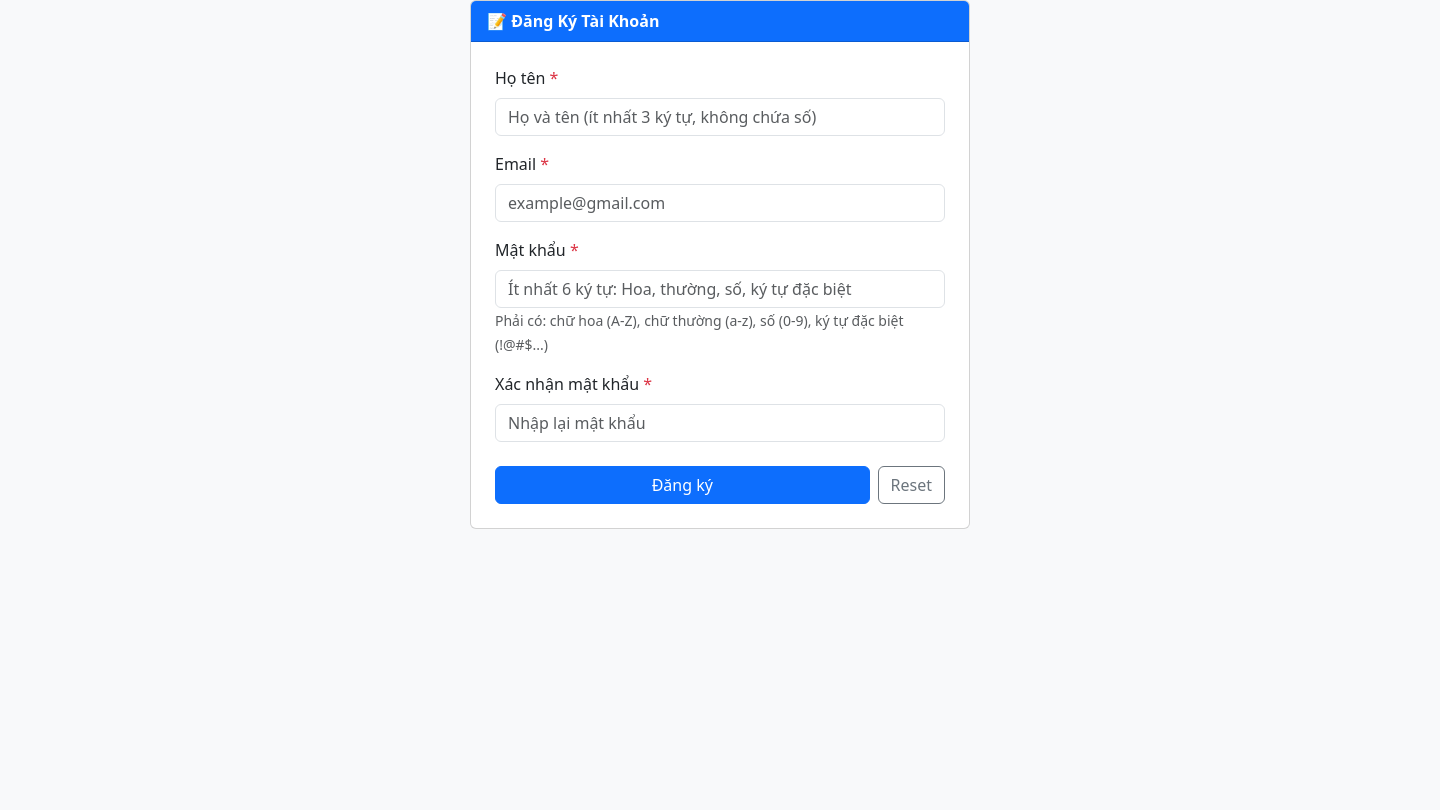
Test case: Bài 5 – Form Validation › ✅ Task 3 – SUBMIT thành công › hiển thị form-success sau khi điền đúng
The image size is (1440, 810).
Type "BichTra" into the field with test id "input-name".
click(720, 117); type("BichTra")  # box x1=495 y1=98 x2=945 y2=136
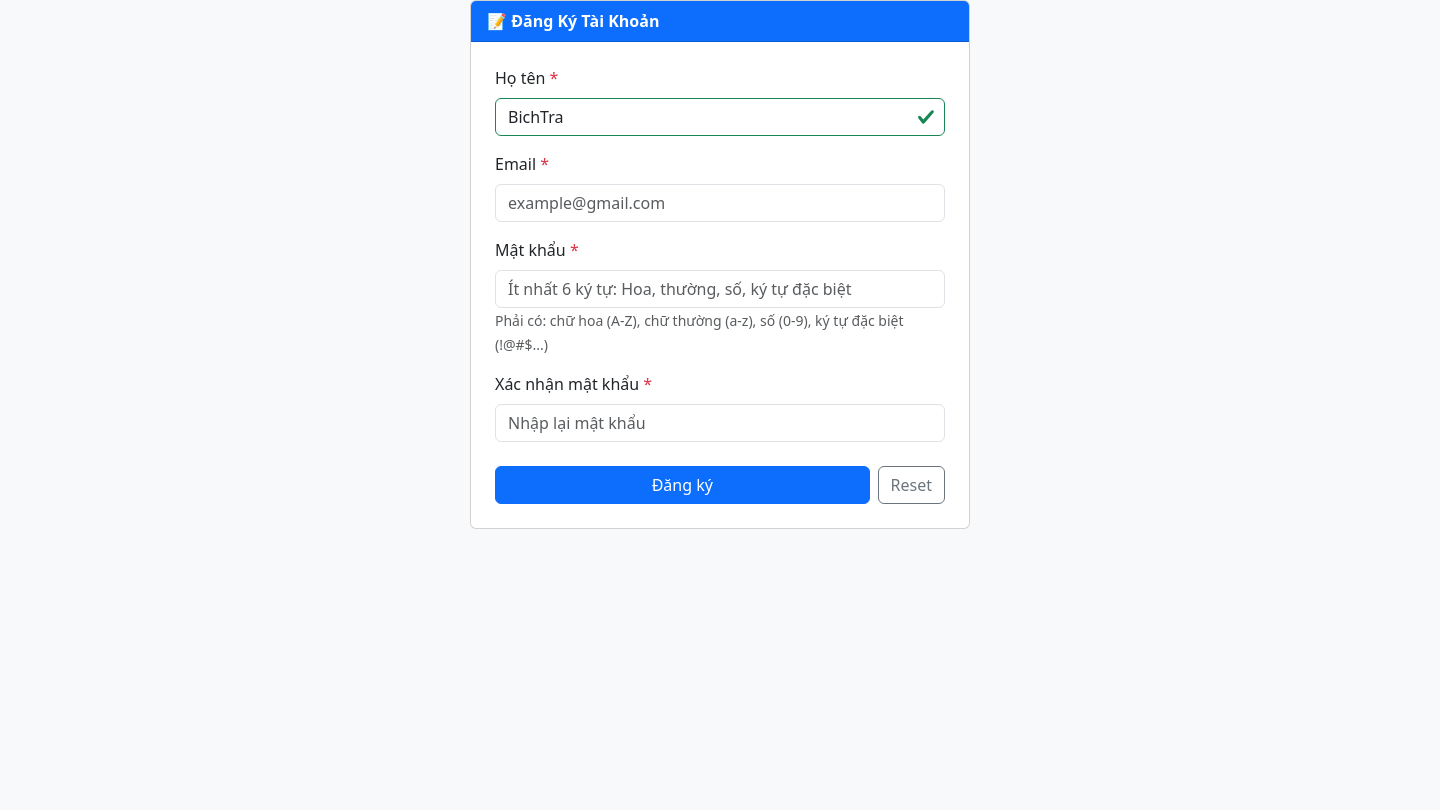
Type "bich@example.com" into the field with test id "input-email".
click(720, 203); type("bich@example.com")  # box x1=495 y1=184 x2=945 y2=222
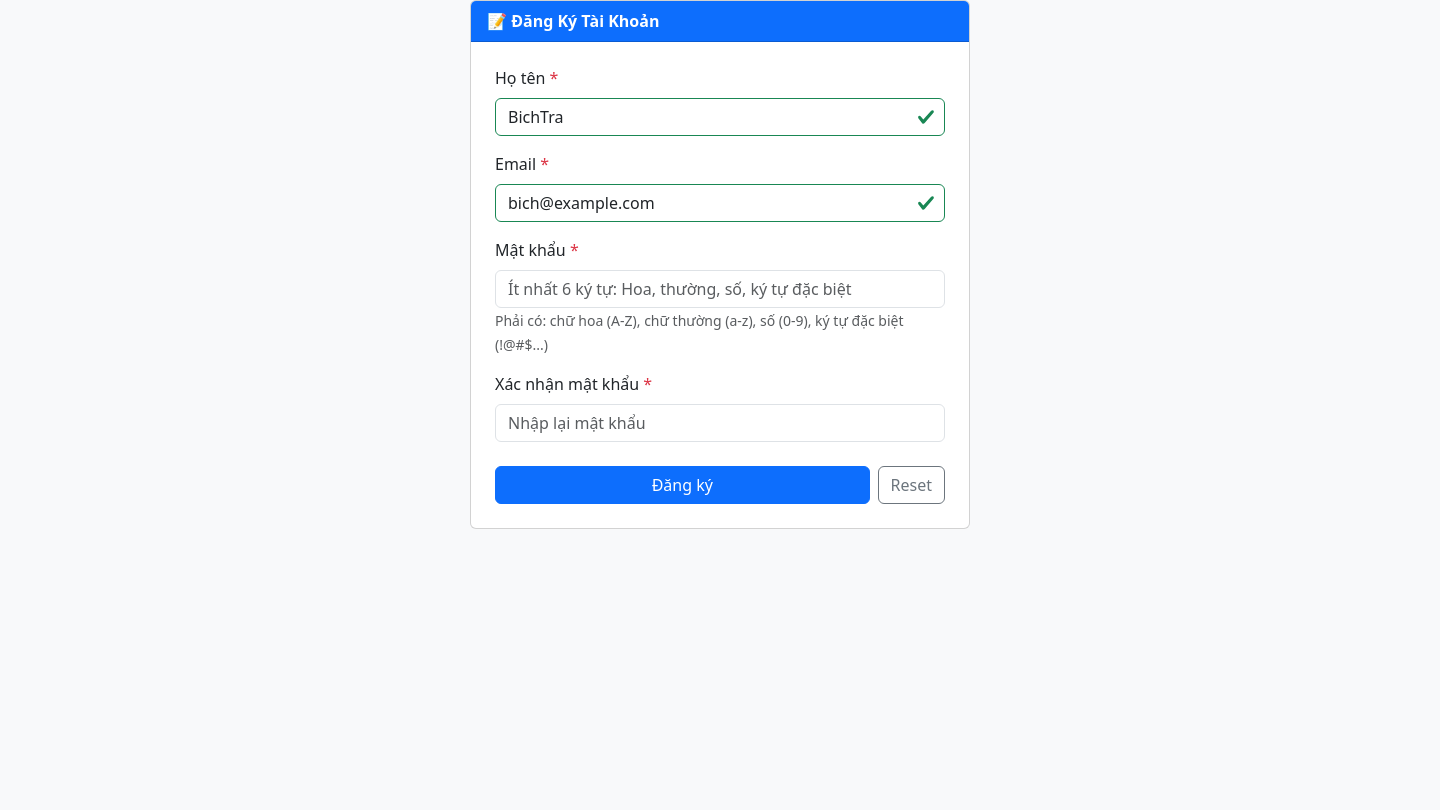
Type "secret123" into the password field with test id "input-password".
click(720, 289); type("secret123")  # box x1=495 y1=270 x2=945 y2=308
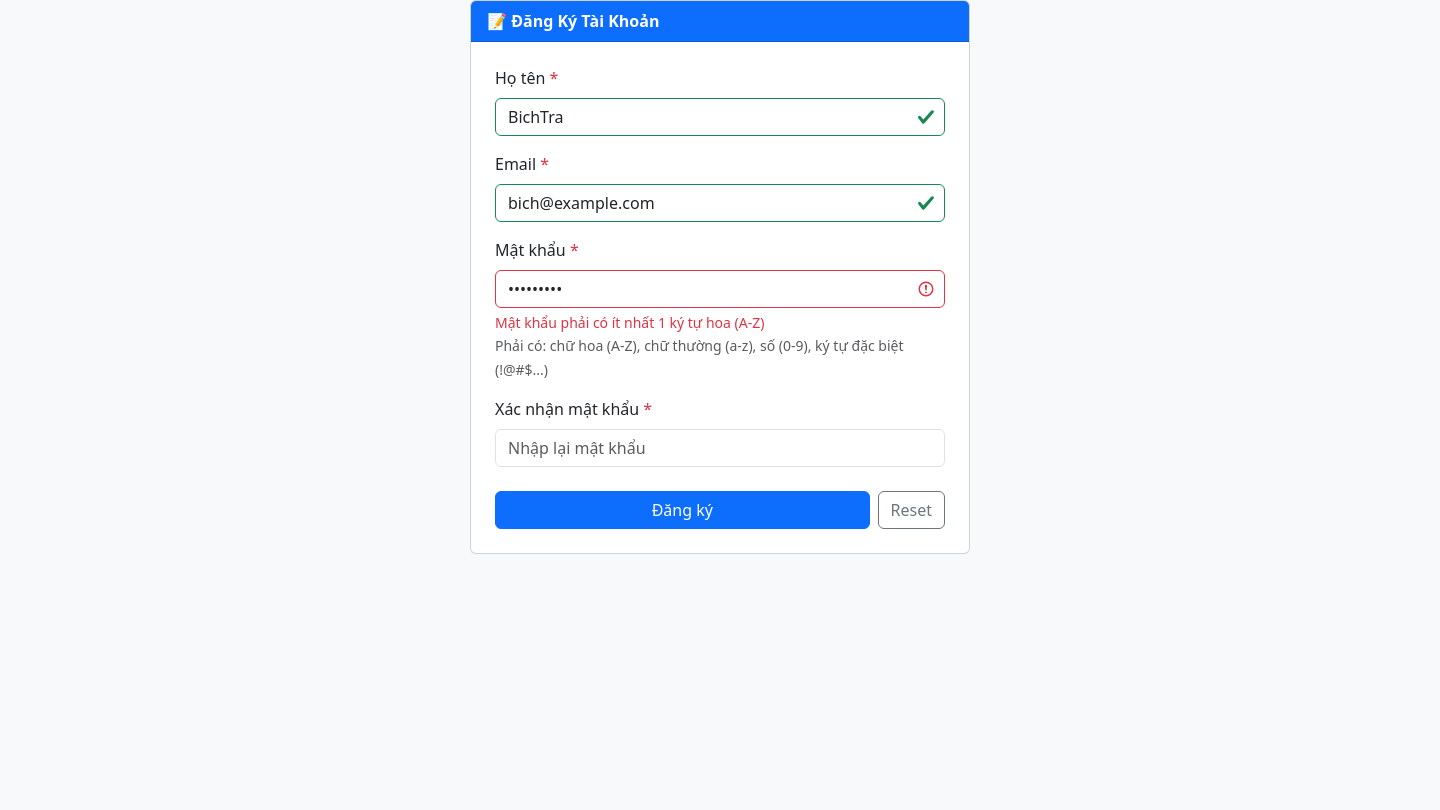
Type "secret123" into the password field with test id "input-confirm".
click(720, 448); type("secret123")  # box x1=495 y1=429 x2=945 y2=467
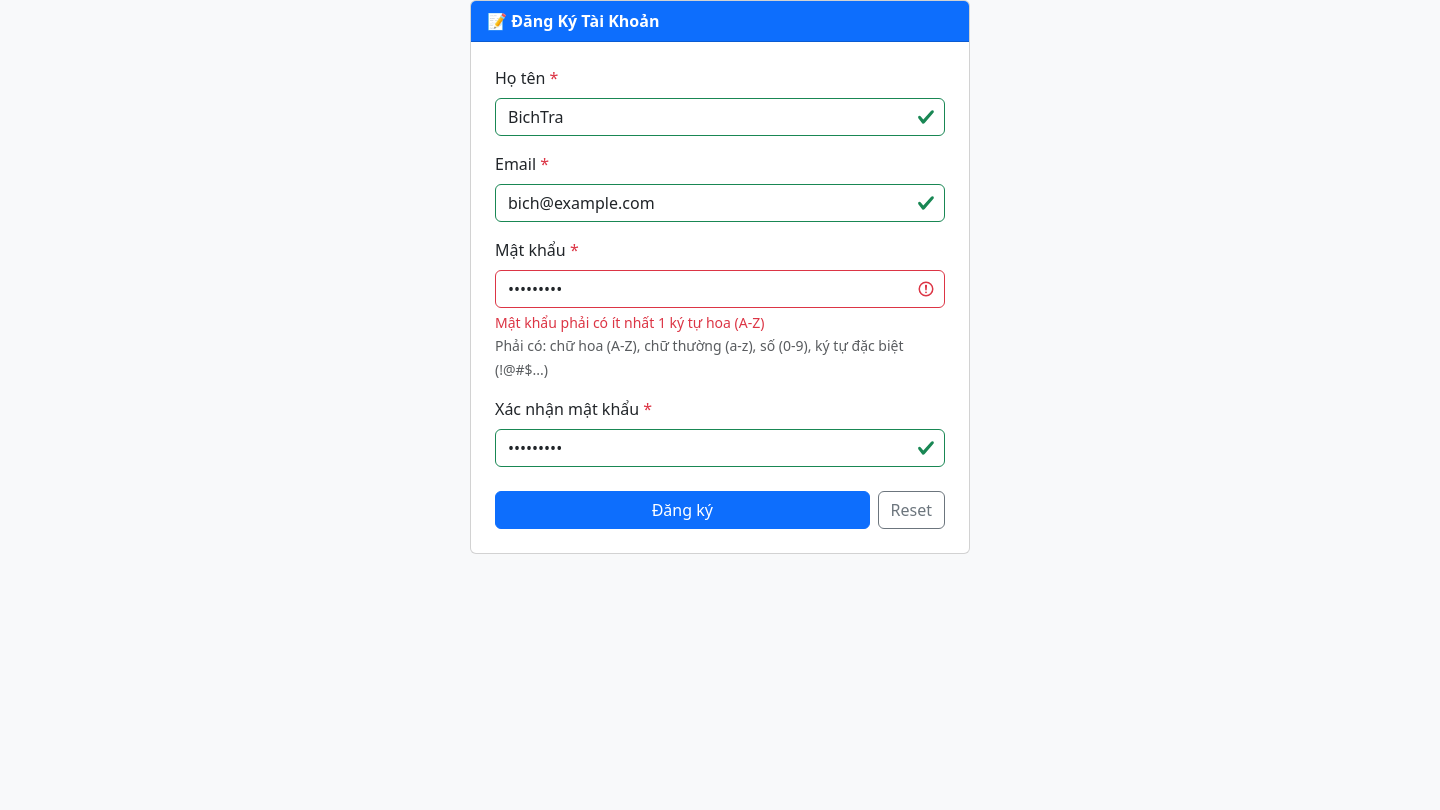
Click the button with test id "btn-submit".
click(682, 510)  # box x1=495 y1=491 x2=870 y2=529
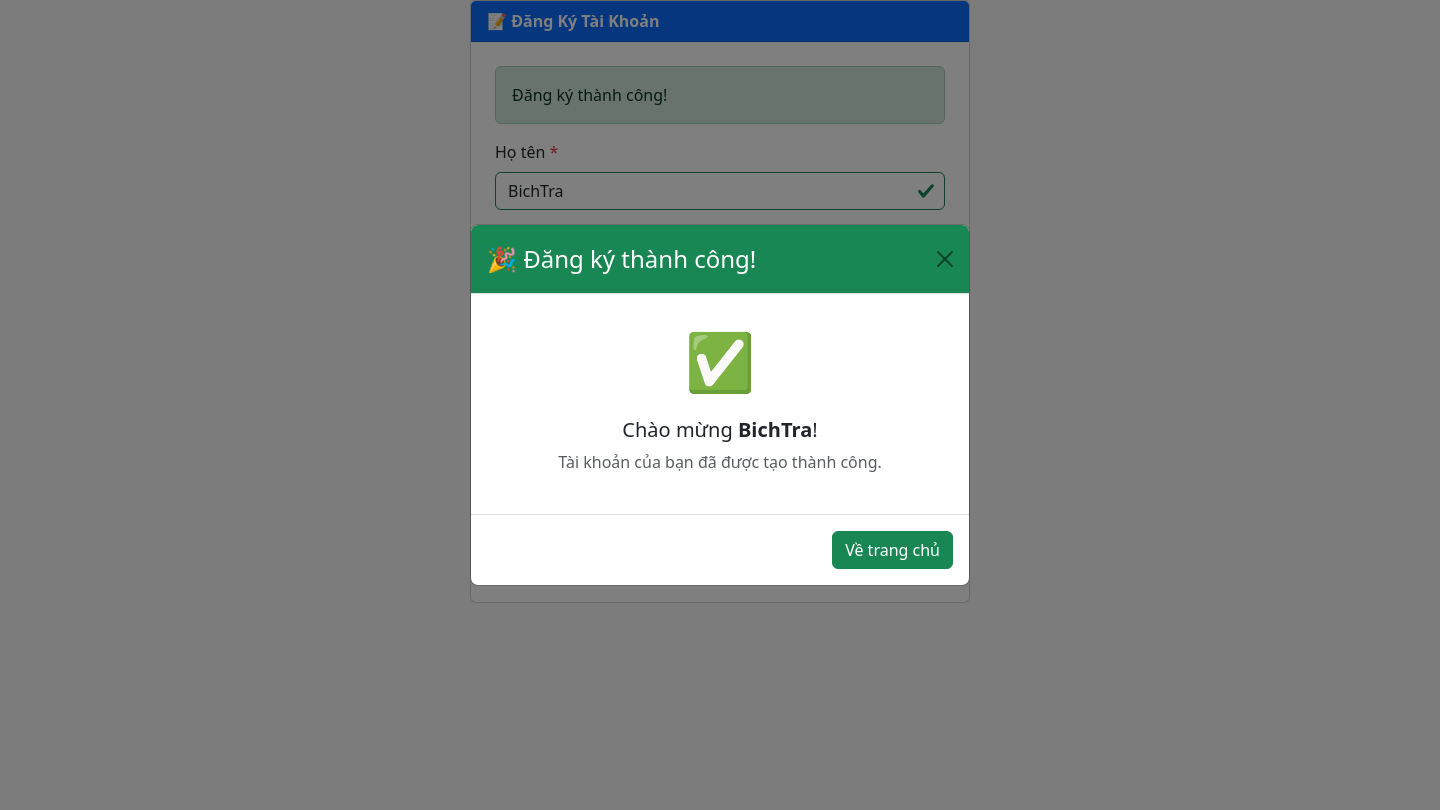
Expected: the message "Đăng ký thành công!" is shown, x1=495 y1=66 x2=945 y2=124
